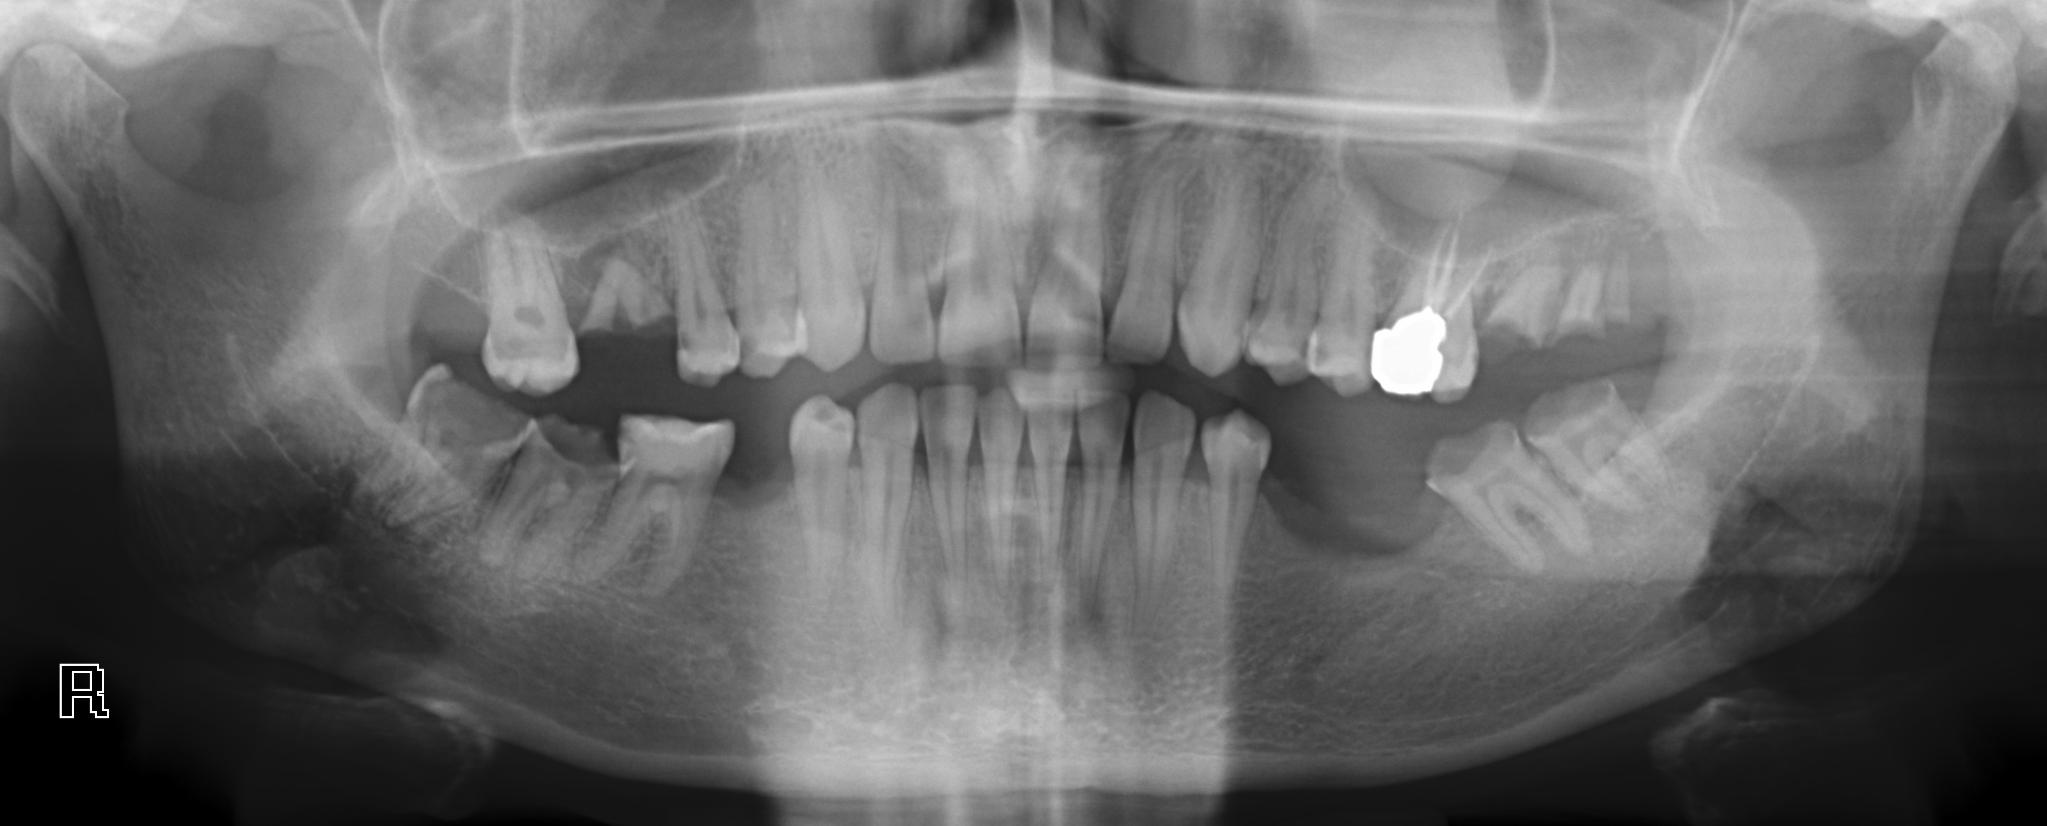Cavity: (480, 399, 621, 573)
Implant: (1366, 204, 1497, 410)
